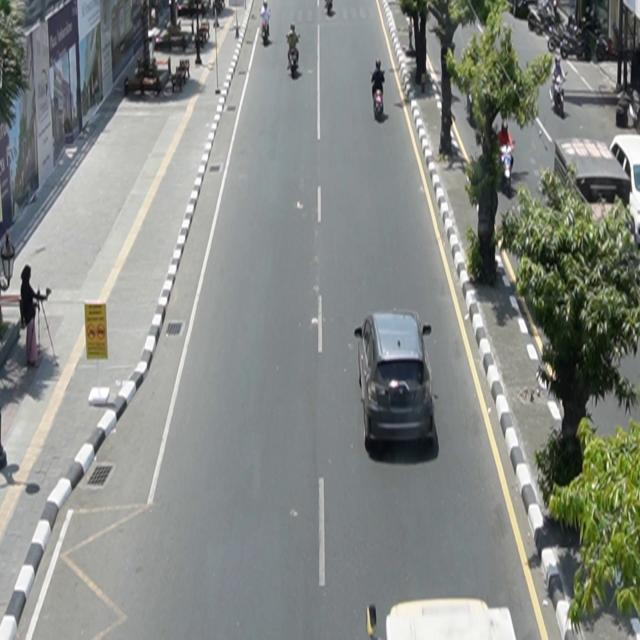car: (355, 309, 436, 450)
